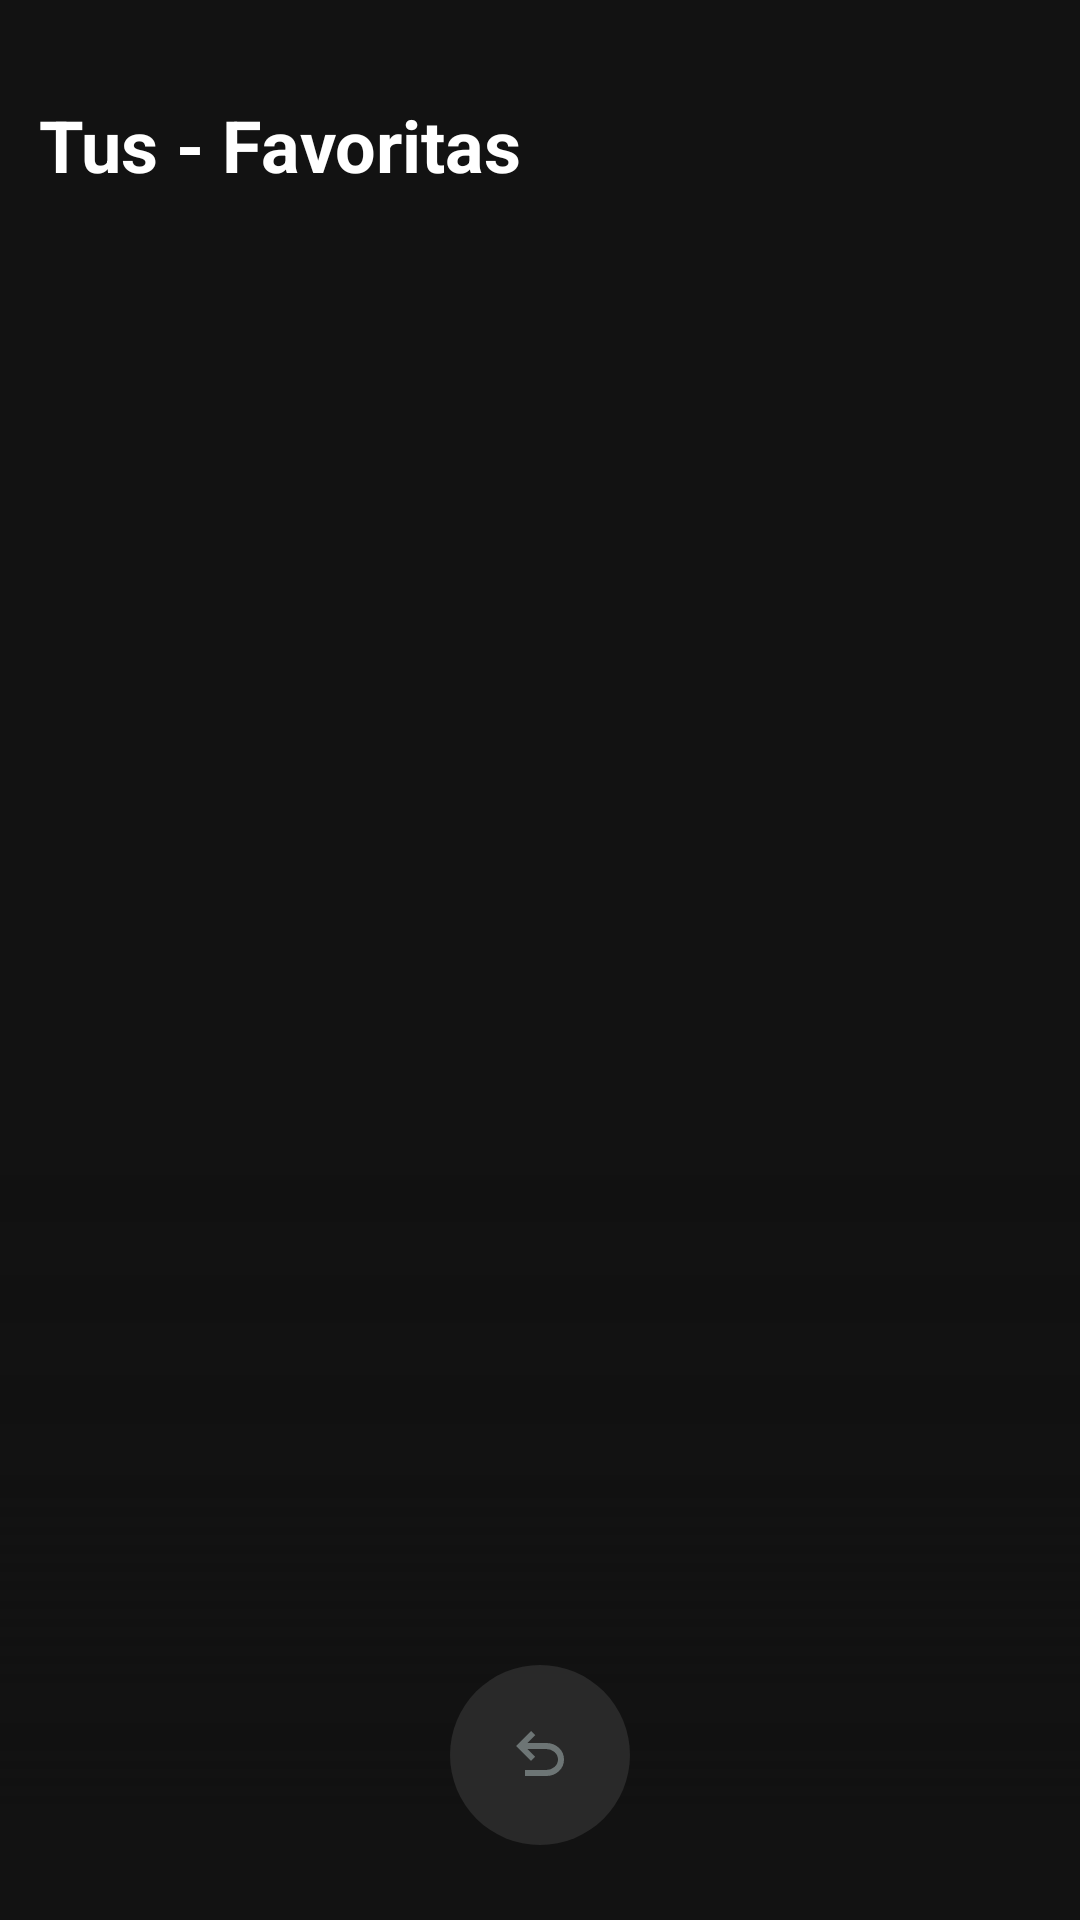

Where to tap for icons on this 1080x1920 app screen, as point (x, y):
back: point (540, 1755)
